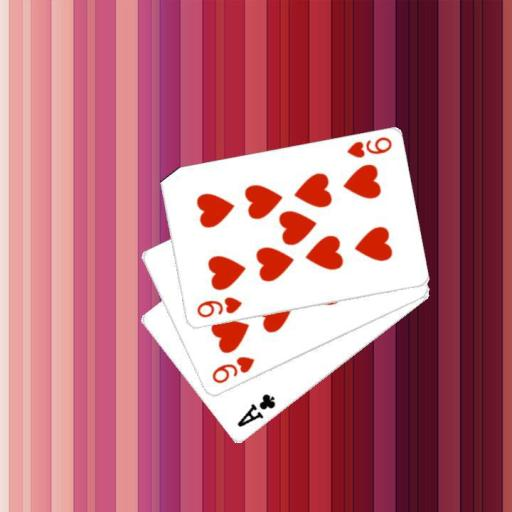9H: (208, 354, 256, 386), (194, 294, 244, 320), (344, 134, 394, 160)
AC: (234, 391, 278, 430)
